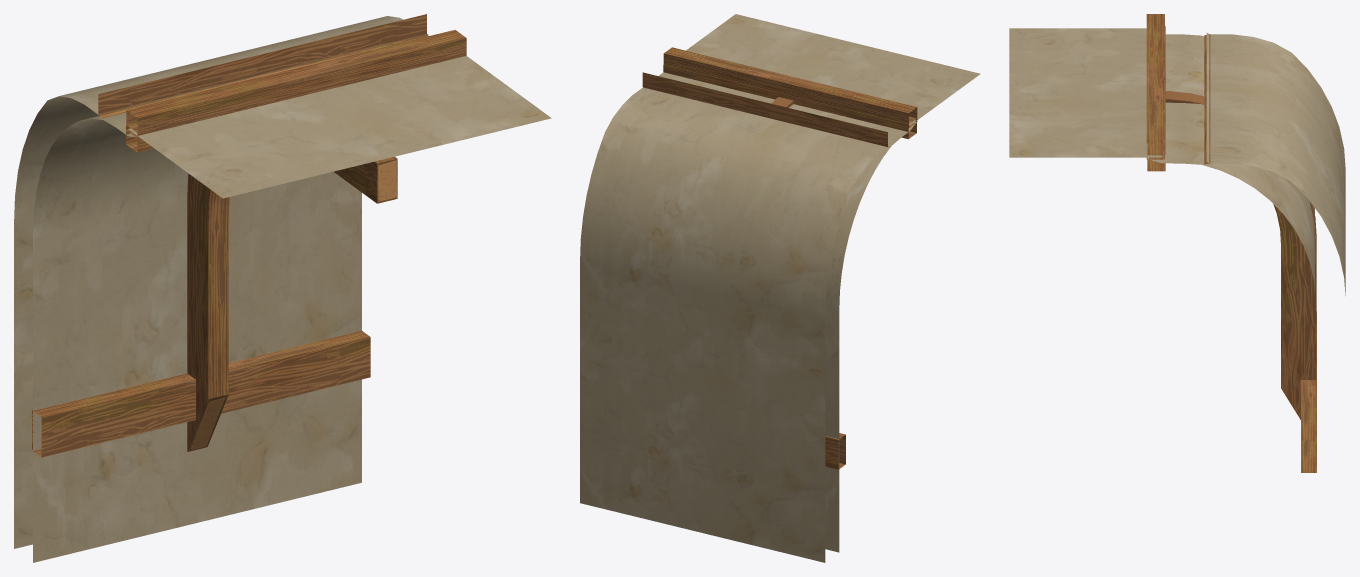
Rendered from Overhang_Plaster_Long.gltf.
3 views of the same model, side by side, from view 1: azimuth 30°, elevation 25°; view 2: azimuth 150°, elevation 25°; view 3: azimuth 270°, elevation 25° (orthographic). The views are drawn at different scales.
Parts seen in each view (by area): view 1: Overhang_Plaster_Long; view 2: Overhang_Plaster_Long; view 3: Overhang_Plaster_Long.
Boxes of the visible parts, x1,y1,x2,y2 form: Overhang_Plaster_Long: [14, 14, 551, 562]; Overhang_Plaster_Long: [580, 14, 980, 562]; Overhang_Plaster_Long: [1009, 14, 1345, 472].
Bounding box in the file's own units: 2 × 3.03 × 2.2.
2 materials, 2 textured.
